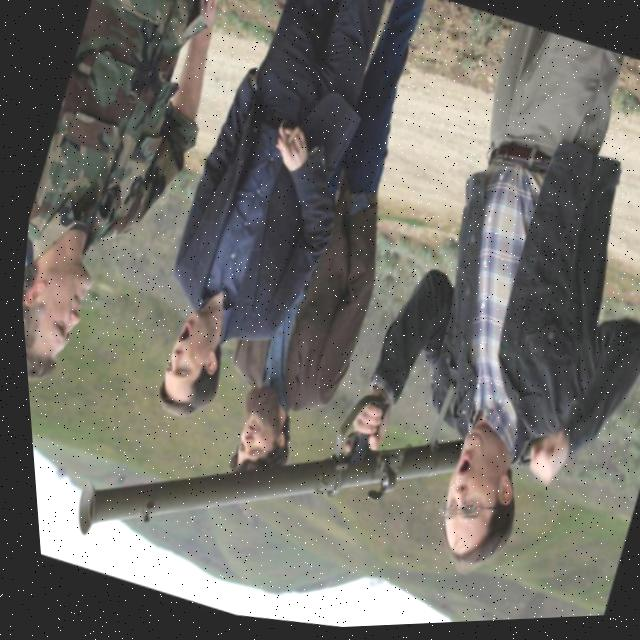rocket: (39, 316, 480, 639)
